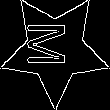M_E: (31, 26, 79, 72)
